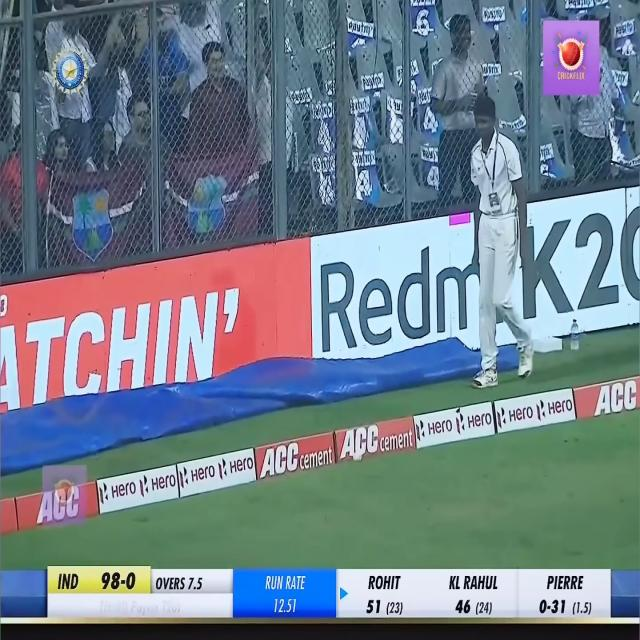partially_visible: (345, 12, 374, 40), (362, 68, 383, 90)
